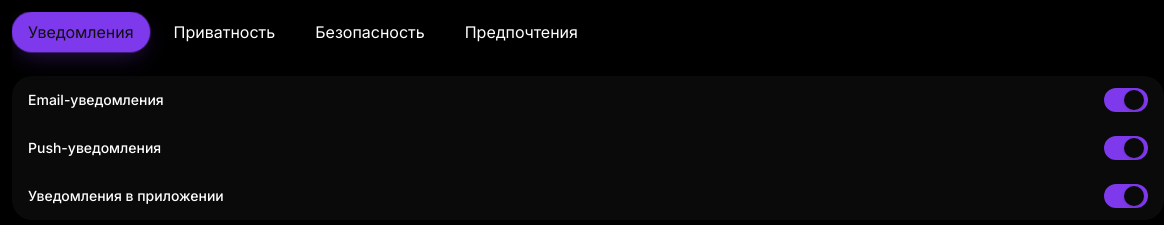
Test: SettingsTab › shows security content when its sub-tab is clicked
What coordinates should you click on to do the following:
click the tab "Безопасность"
I would click on:
 (370, 32)
Its box is [299,12,441,52].
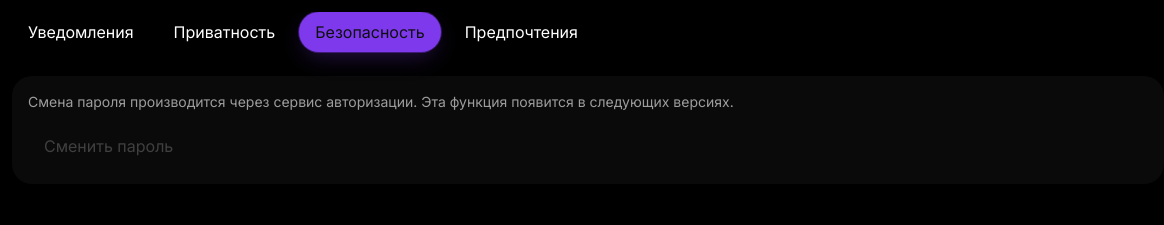
Expected: the button "Сменить пароль" is shown, [28,124,189,168]
